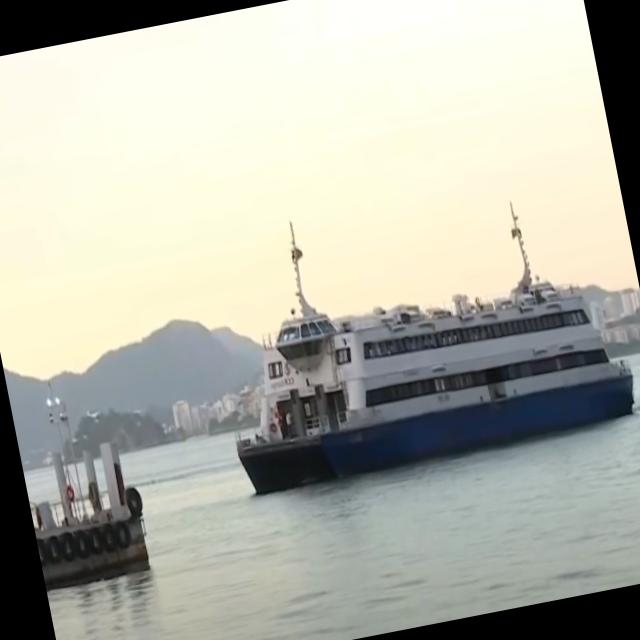Passenger: (238, 213, 633, 493)
